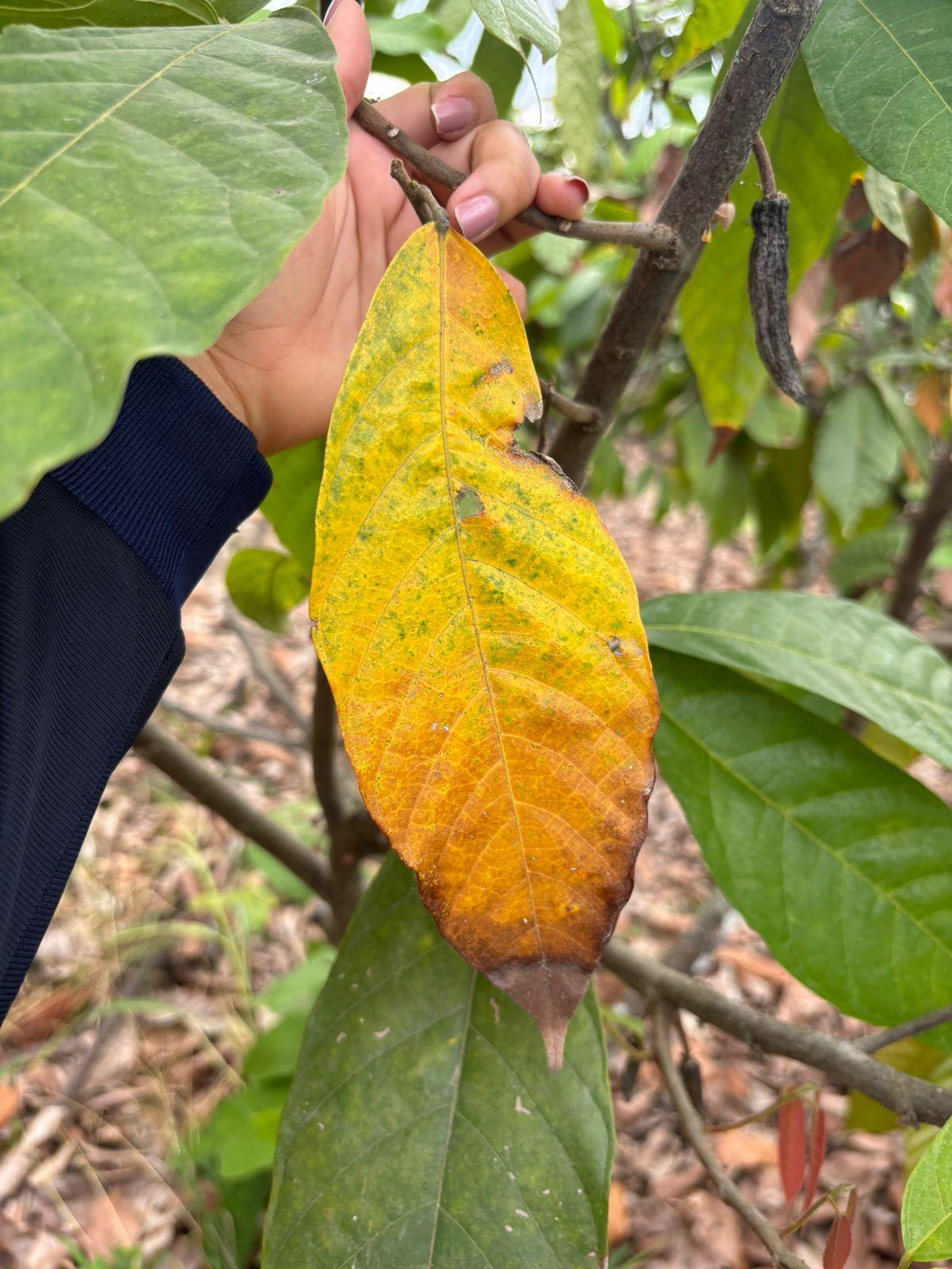deficienciia_fosforo: (309, 224, 658, 1068)
